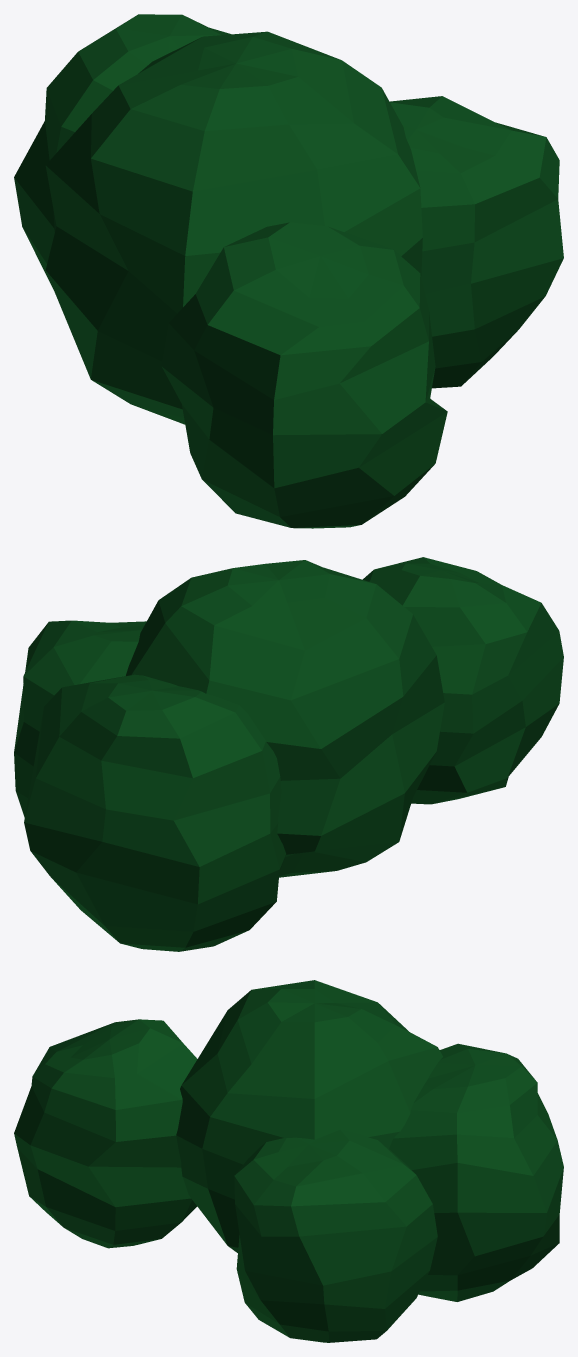
The model's file is george_w 1.fbx.
3 views of the same model, one above another, from view 1: azimuth 30°, elevation 25°; view 2: azimuth 150°, elevation 25°; view 3: azimuth 270°, elevation 25° (orthographic). The views are drawn at different scales.
Visible parts, largest first — view 1: Sphere.002, Sphere.003, Sphere, Sphere.001; view 2: Sphere.002, Sphere.001, Sphere.003, Sphere; view 3: Sphere.002, Sphere, Sphere.003, Sphere.001.
Part boxes in pixels (x1,y1,x2,y2): Sphere.002: (45,31,422,424); Sphere.003: (161,222,447,528); Sphere: (390,96,563,388); Sphere.001: (14,14,230,287); Sphere.002: (126,560,444,877); Sphere.001: (24,674,285,951); Sphere.003: (362,557,563,804); Sphere: (14,620,146,817); Sphere.002: (176,980,442,1252); Sphere: (234,1130,437,1342); Sphere.003: (14,1019,197,1248); Sphere.001: (389,1043,563,1301).
Size of the model in its own units: 140 by 105 by 191.
